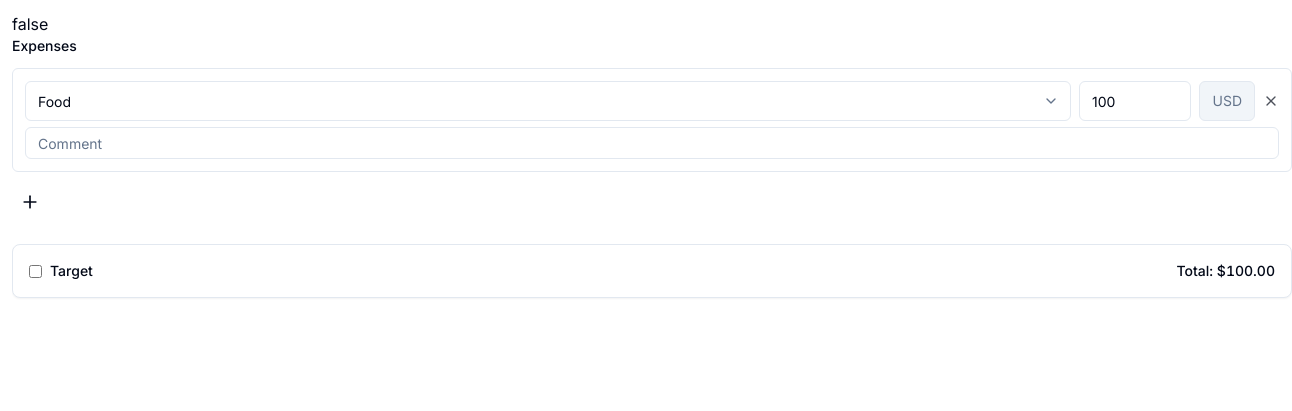
Test: target total mode › reveals the target input when the toggle is switched on
Click the checkbox labelled "Target".
click(36, 271)  # box [29, 264, 42, 278]
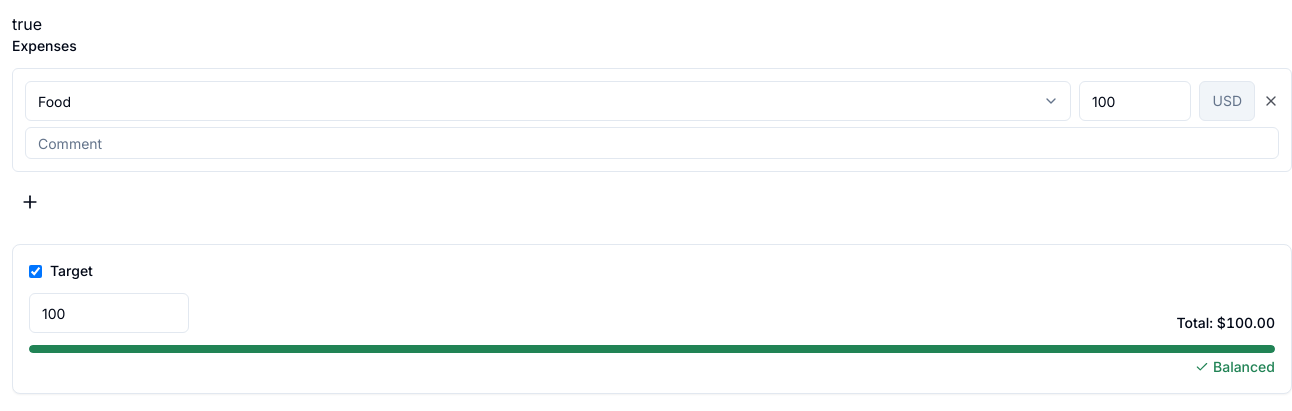
Expected: the number field named "Target total" is shown, [29, 293, 189, 333]
